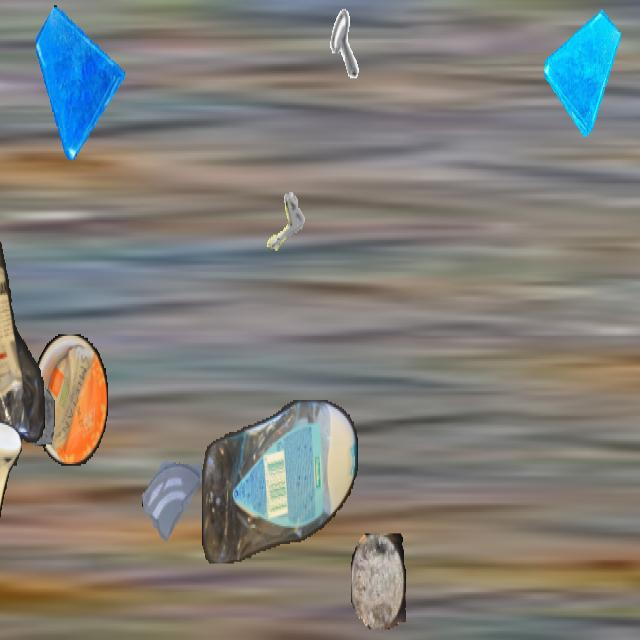glass: (36, 2, 124, 158), (544, 2, 620, 137), (142, 436, 204, 546), (0, 331, 55, 448), (0, 318, 23, 464)
metal: (298, 2, 360, 112), (249, 176, 309, 283)
plastic: (202, 400, 358, 564), (0, 2, 49, 464), (33, 334, 107, 466), (0, 422, 21, 638)
wood: (351, 534, 405, 630)
